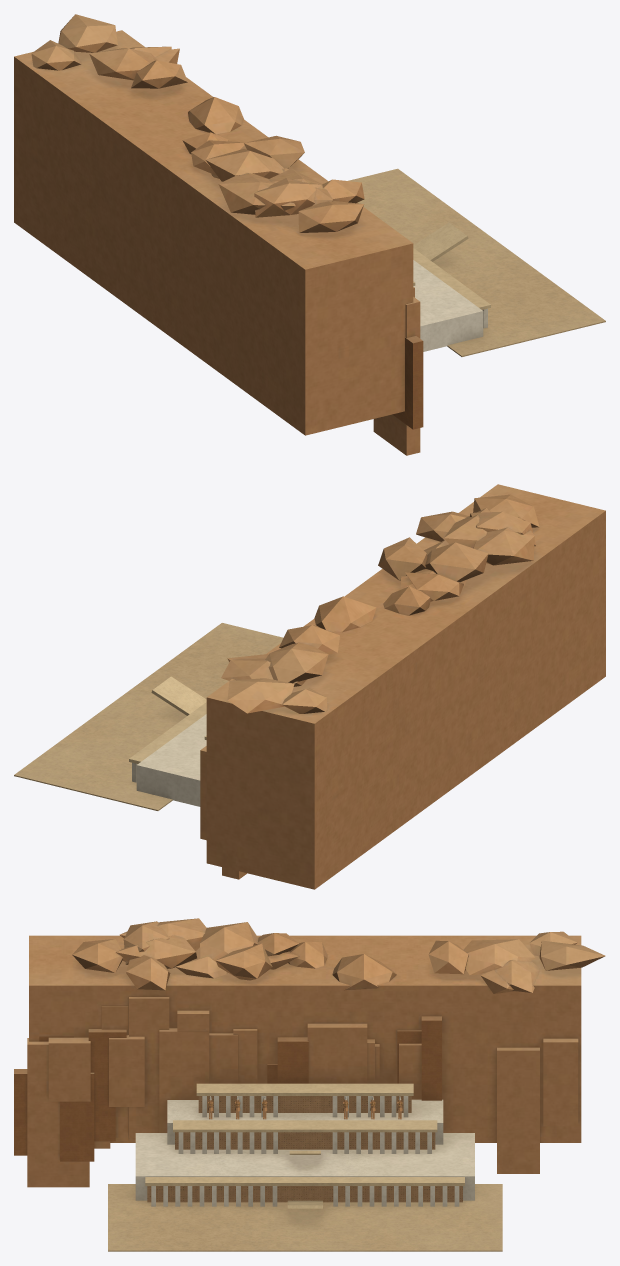
File: terrasstempel_tex.glb
3 renders of one model, top to bottom at view 1: azimuth 30°, elevation 25°; view 2: azimuth 150°, elevation 25°; view 3: azimuth 270°, elevation 25°, orthographic. The views are drawn at different scales.
Parts seen in each view (by area): view 1: terrasstempel; view 2: terrasstempel; view 3: terrasstempel.
Part boxes in pixels (x1=…): terrasstempel: x1=14, y1=14, x2=605, y2=455; terrasstempel: x1=14, y1=484, x2=605, y2=889; terrasstempel: x1=14, y1=918, x2=605, y2=1251.
Size of the model in its own units: 95.31 by 64.12 by 150.
Materials: 9 (6 with a texture image).
